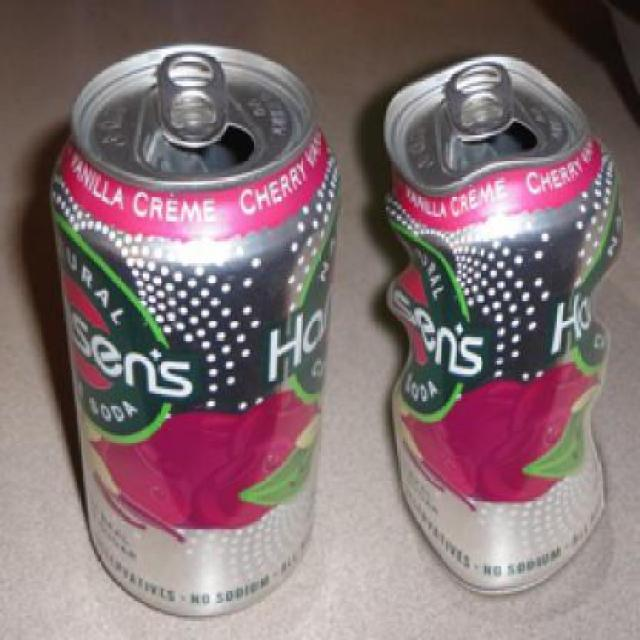non-organic waste: (37, 36, 375, 638), (373, 36, 640, 638)
